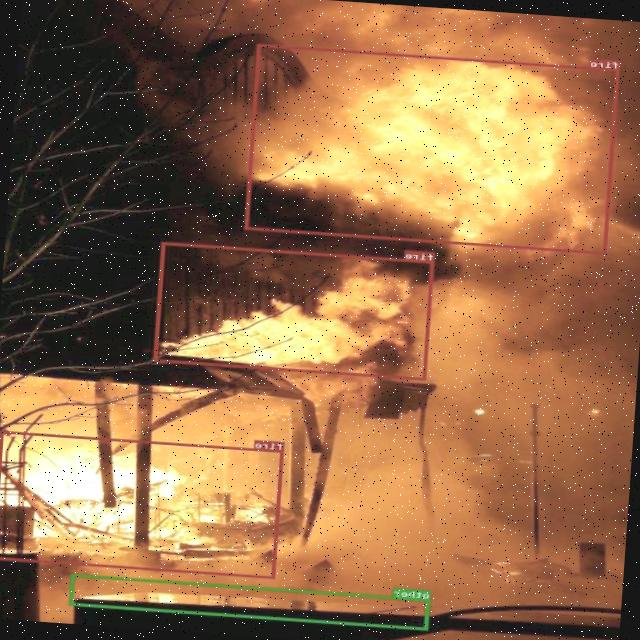fire: (245, 43, 620, 254), (0, 429, 284, 577), (153, 240, 434, 380)
